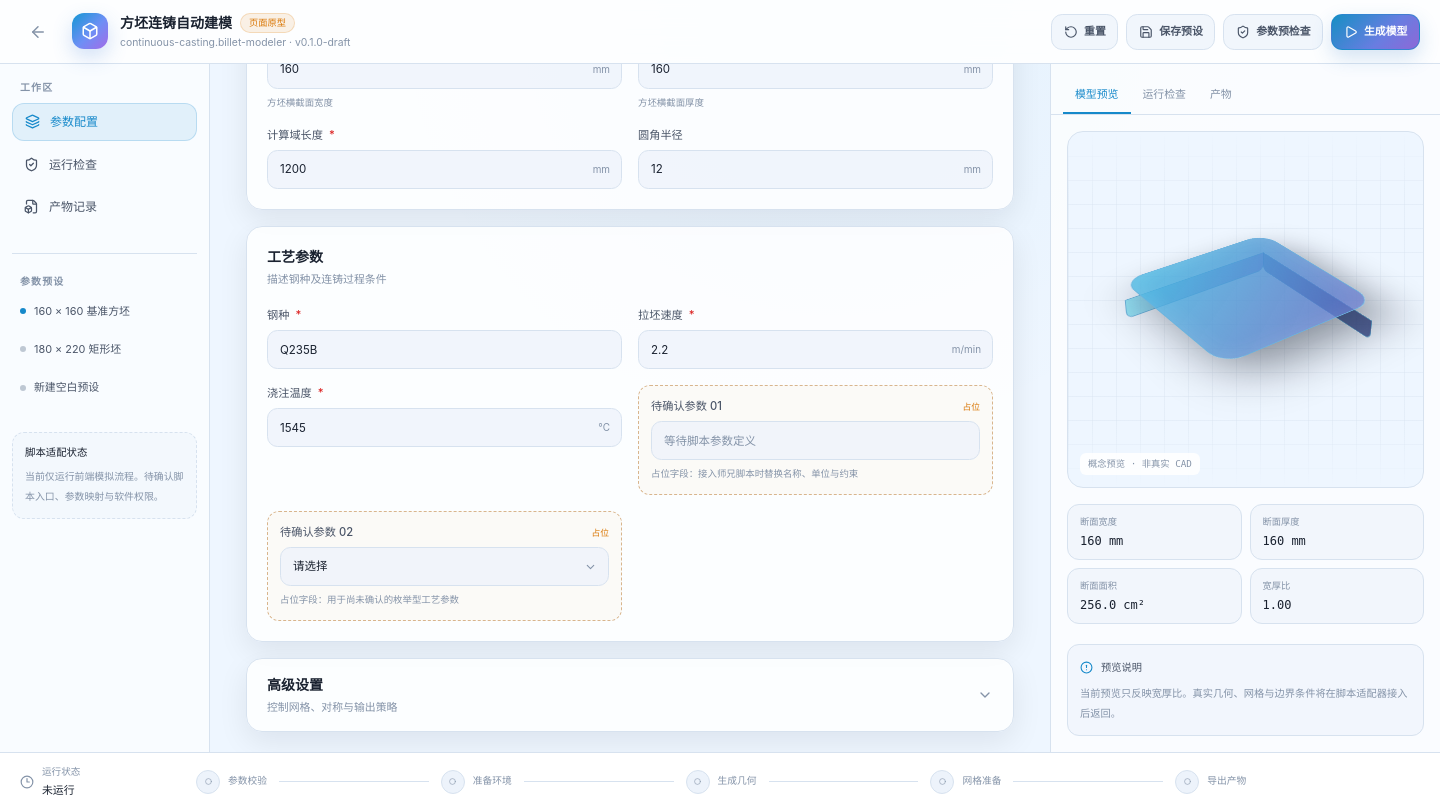
automation workbench › renders manifest fields and clearly marks provisional parameters
(page scrolled)
Expected: the number field labelled "断面宽度" holds "160", [267,64,622,89]
Expected: the text "占位" is shown 2 times, [962,400,980,413]; [591,526,609,539]
Step 1. Click the button "高级设置 控制网格、对称与输出策略" → (295, 685), box [247,659,1013,732]
(page scrolled)
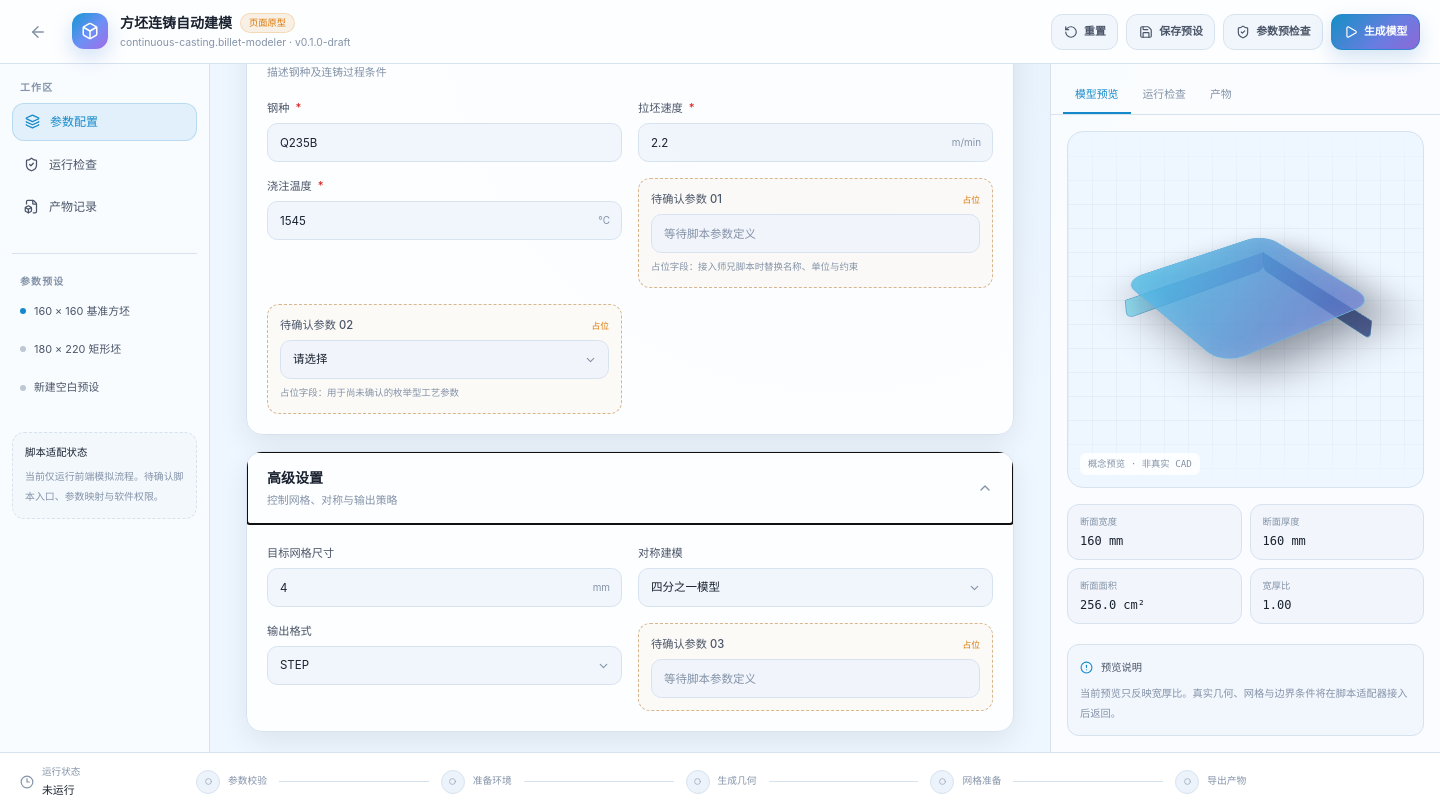
Expected: the field labelled "待确认参数 03" is shown, [651,659,980,698]
